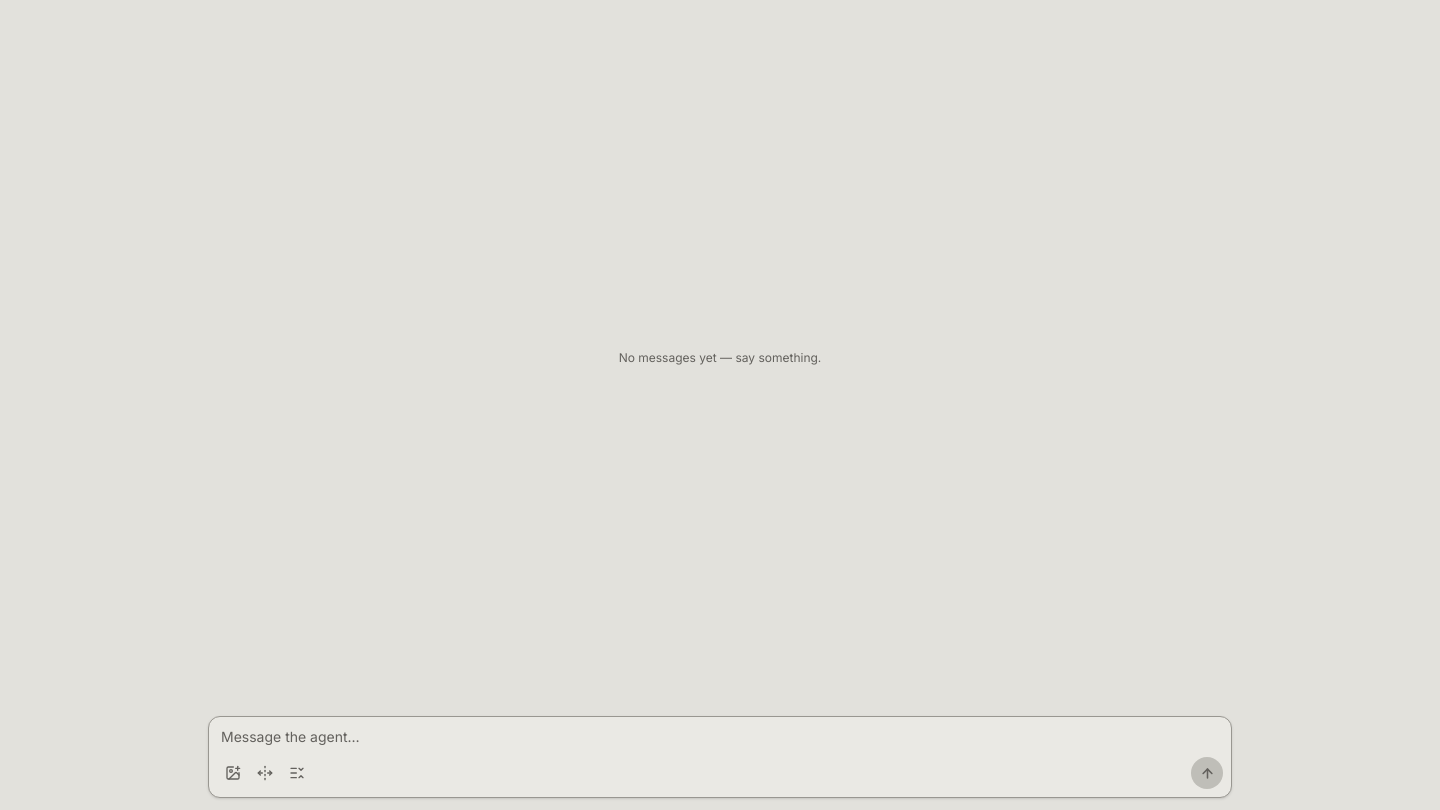
Test case: WorkspaceChat composer menu › offers codex skills on $ and inserts the mention for the message to follow
Step 1. Type "/" into the text box → point(720, 737), box x1=209 y1=717 x2=1231 y2=757
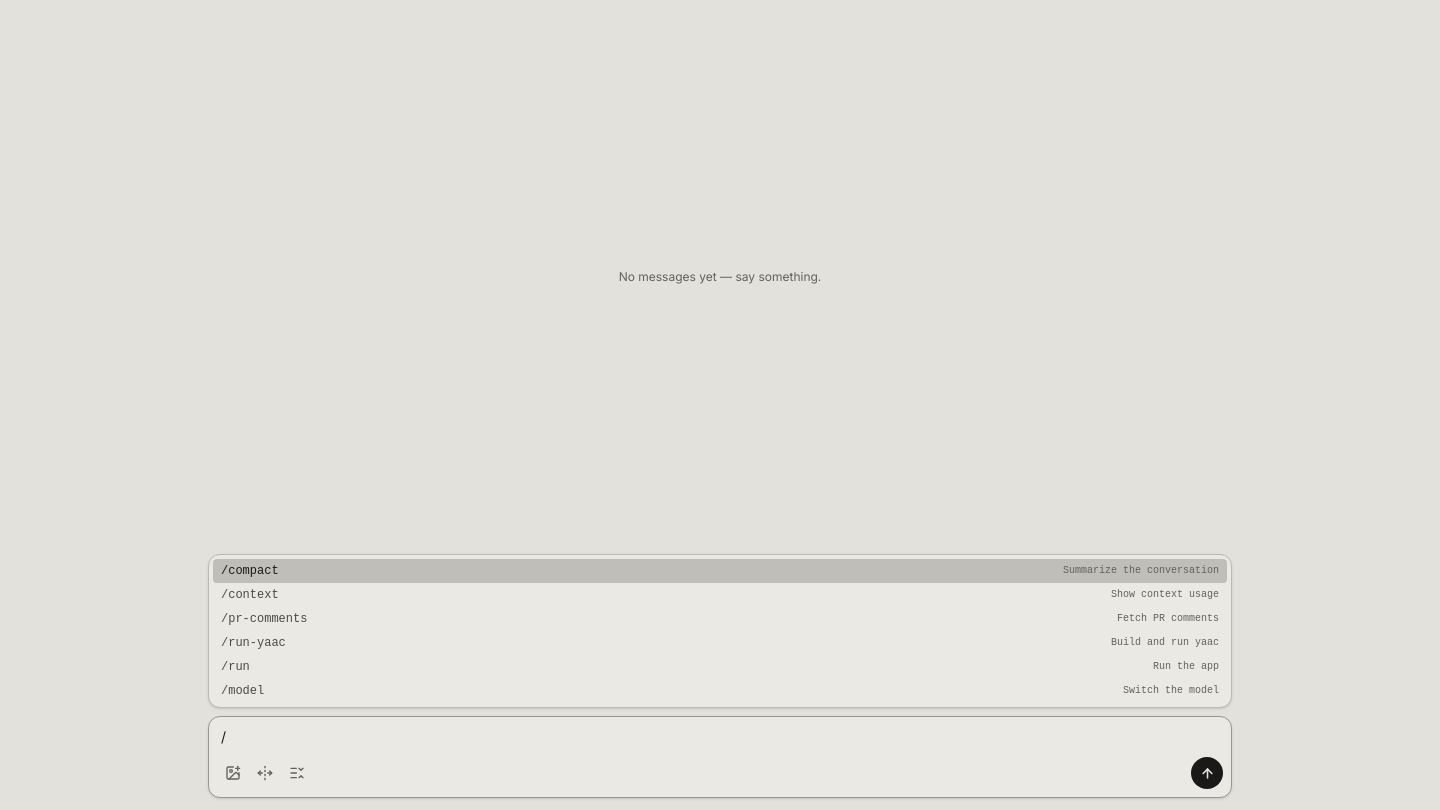
Step 2. Replace the text in the text box with "$rev" → point(720, 737), box x1=209 y1=717 x2=1231 y2=757
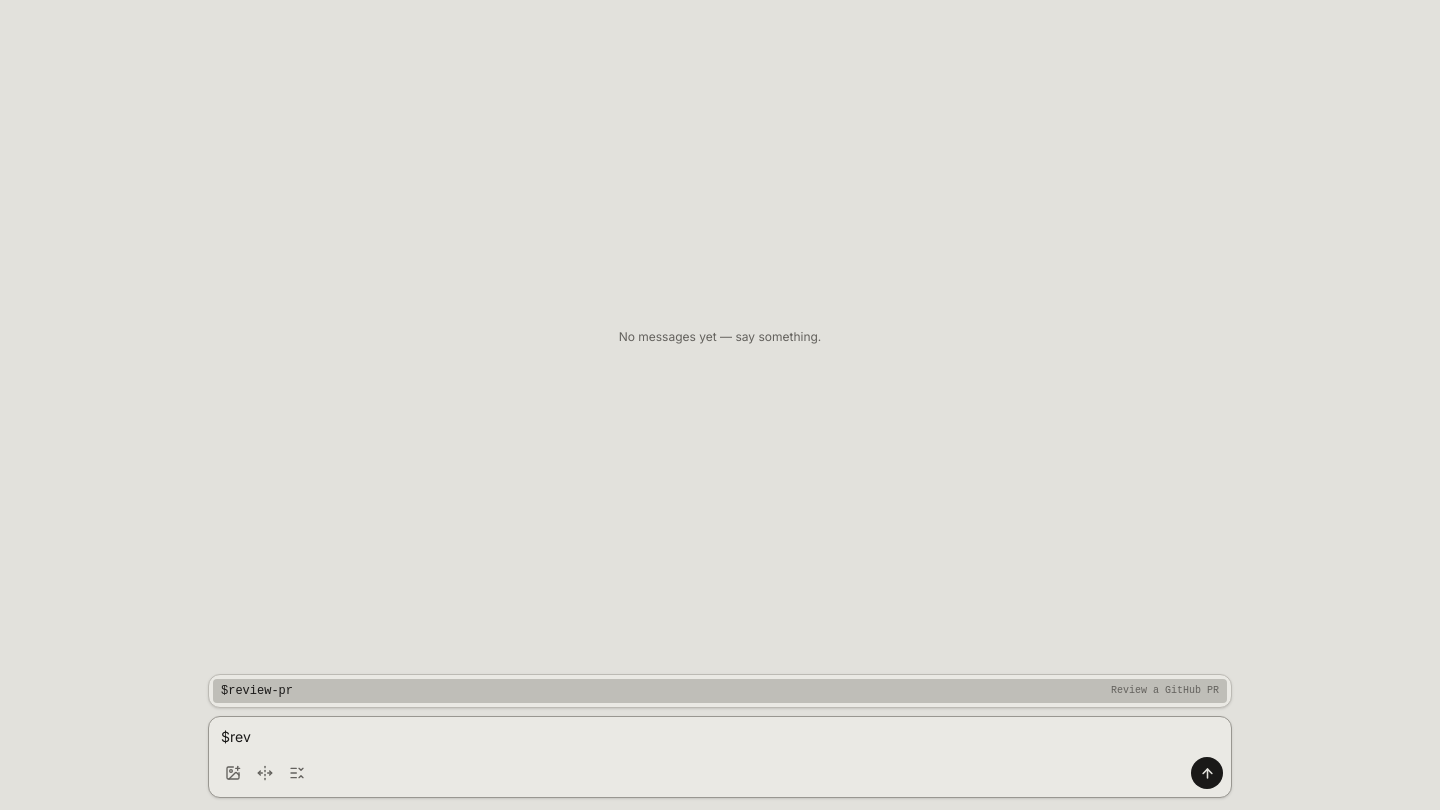
Step 3. Press Enter in the text box, box x1=209 y1=717 x2=1231 y2=757
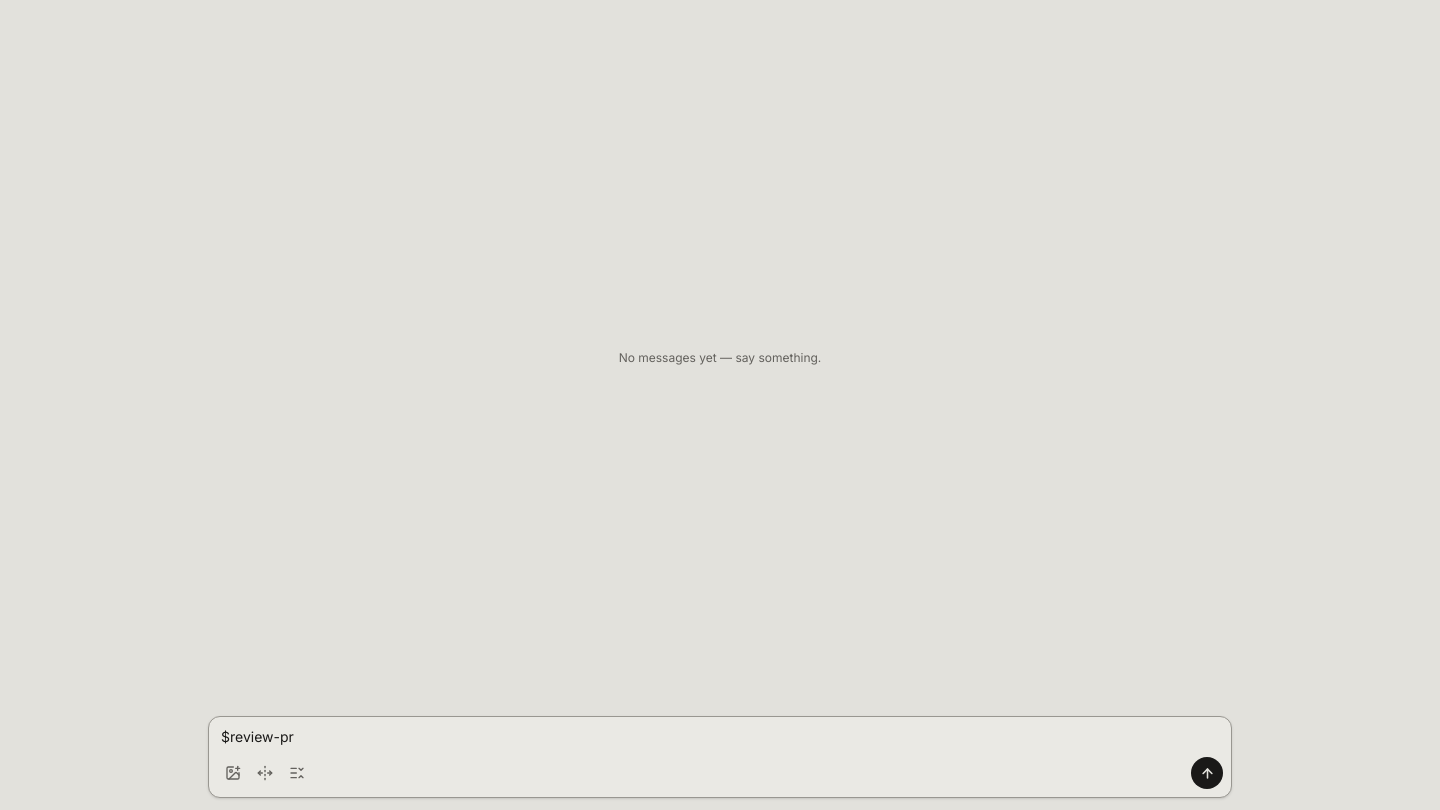
Check: the text box holds "$review-pr ", box x1=209 y1=717 x2=1231 y2=757
